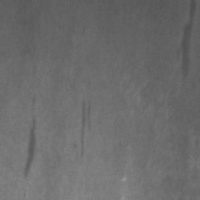inclusion: (173, 6, 199, 85), (19, 108, 44, 180), (72, 95, 96, 160)
